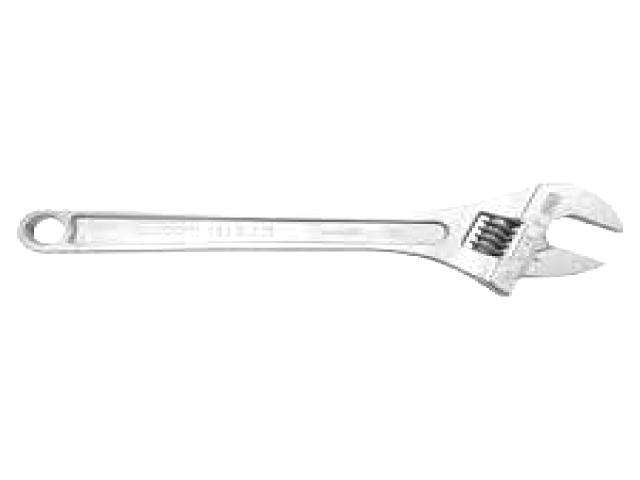Adjustable spanner: (19, 182, 624, 294)
